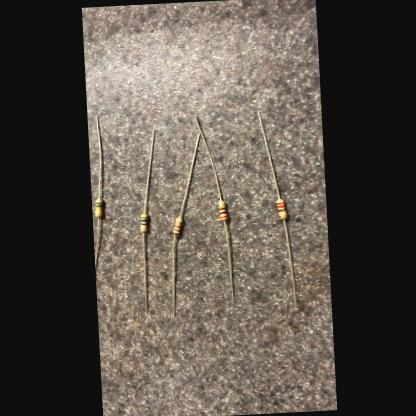resistor: (274, 198, 286, 218), (216, 200, 228, 220), (170, 216, 182, 235), (138, 213, 148, 232), (94, 197, 102, 217)
wire: (174, 132, 202, 216), (193, 114, 220, 200), (255, 108, 279, 198), (138, 127, 156, 212), (281, 218, 295, 306), (167, 236, 178, 315), (223, 219, 233, 303), (92, 115, 102, 196), (140, 232, 146, 310), (91, 218, 100, 270)
